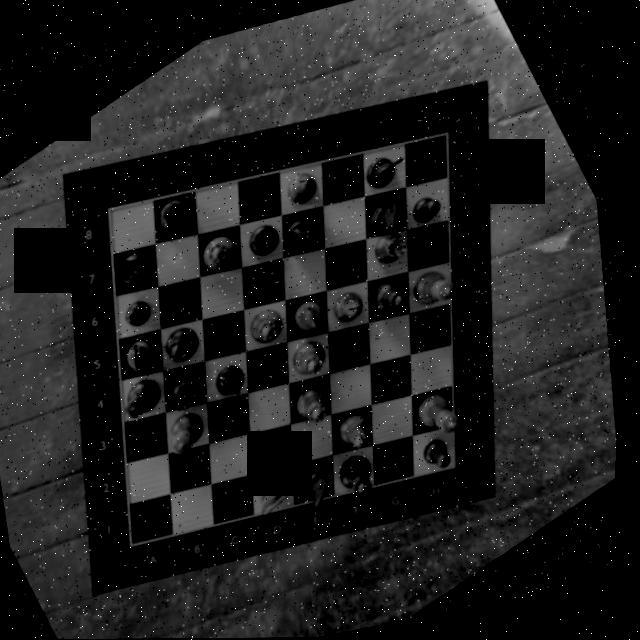chess-table-corners: (120, 510, 174, 562), (426, 111, 479, 161), (94, 180, 142, 230), (452, 446, 490, 482)
